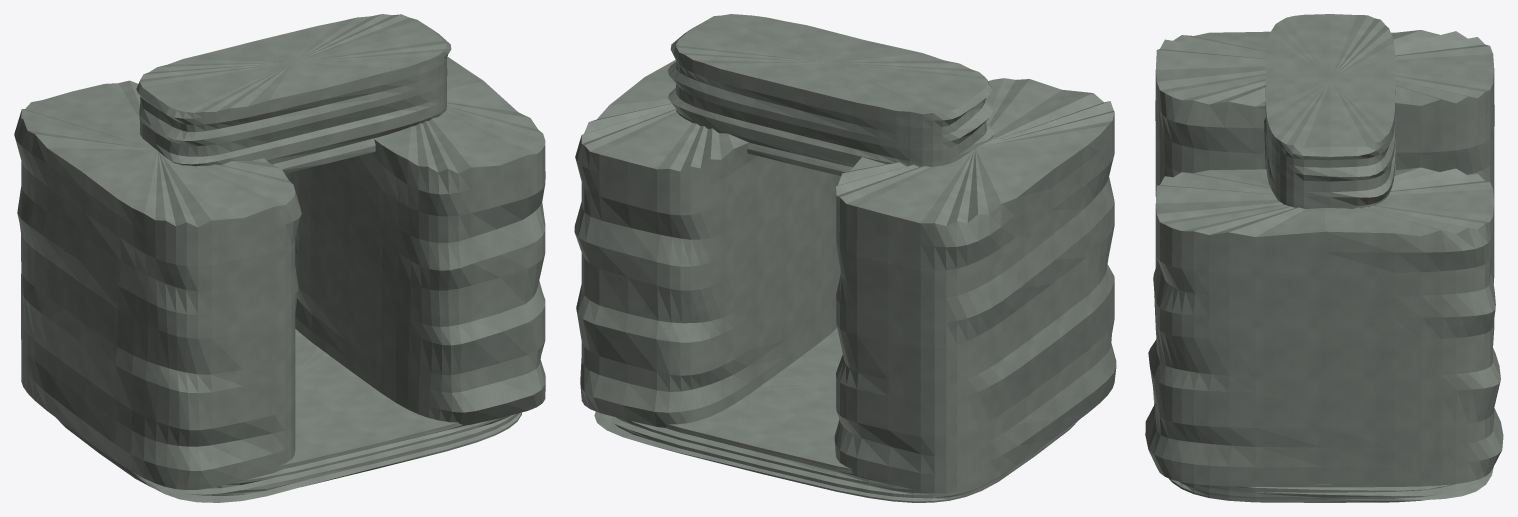
The model's file is gorgehold-survivor-gallery-and-operations-rockfall-squ-6c369949__32883.glb.
The picture shows the model from 3 angles, left to right: view 1: azimuth 30°, elevation 25°; view 2: azimuth 150°, elevation 25°; view 3: azimuth 270°, elevation 25°; orthographic projection. The views are drawn at different scales.
Parts seen in each view (by area): view 1: rockfall-squeeze-passage; view 2: rockfall-squeeze-passage; view 3: rockfall-squeeze-passage.
Part boxes in pixels (<box>): rockfall-squeeze-passage: <box>14,14,545,502</box>; rockfall-squeeze-passage: <box>574,14,1116,502</box>; rockfall-squeeze-passage: <box>1145,14,1503,502</box>.
Bounding box in the file's own units: 4.13 × 3.3 × 3.17.
1 material, 1 textured.
